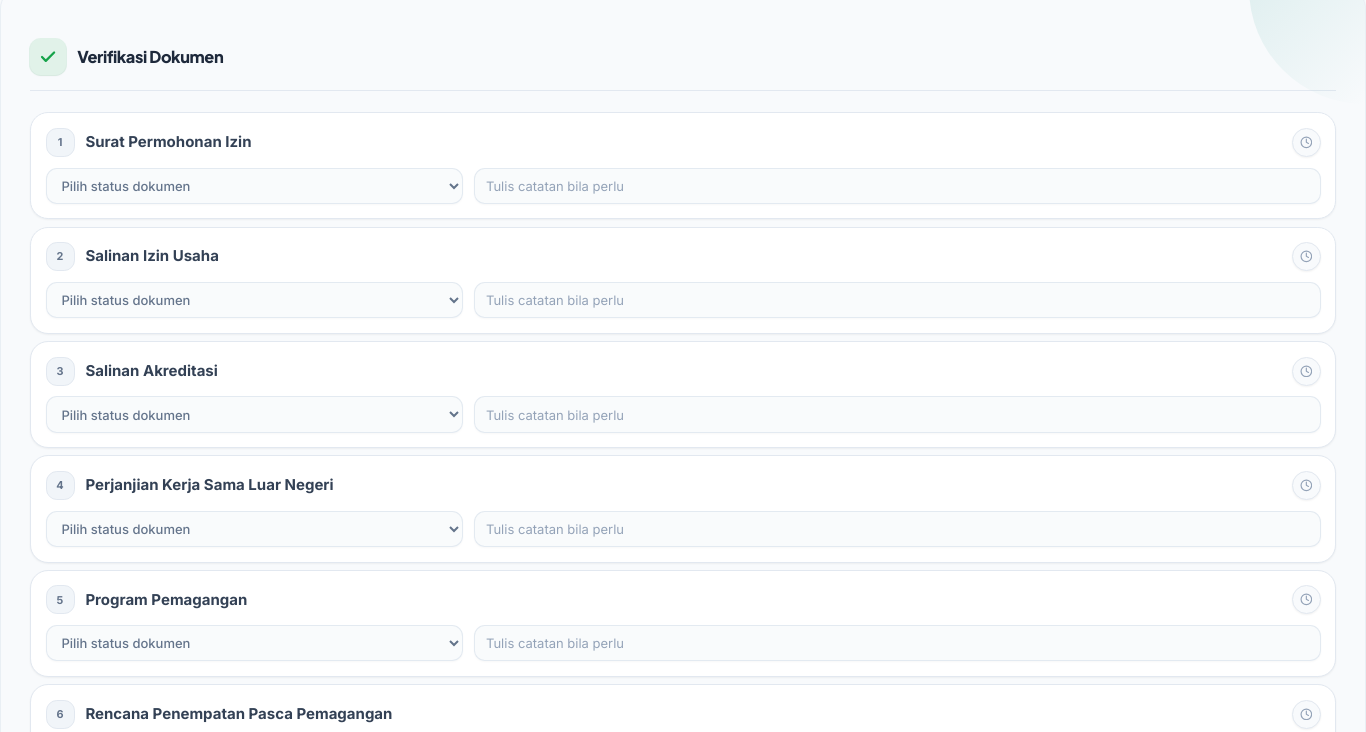
it: session flow › saves and restores document inspection draft before clearing it after final submit
This screenshot has width=1366, height=732.
Later steps or results of the test are not shown.
Step 1. Select "Memerlukan Perbaikan" in the dropdown below "Surat Permohonan Izin" → (254, 186), box x1=46 y1=168 x2=463 y2=204
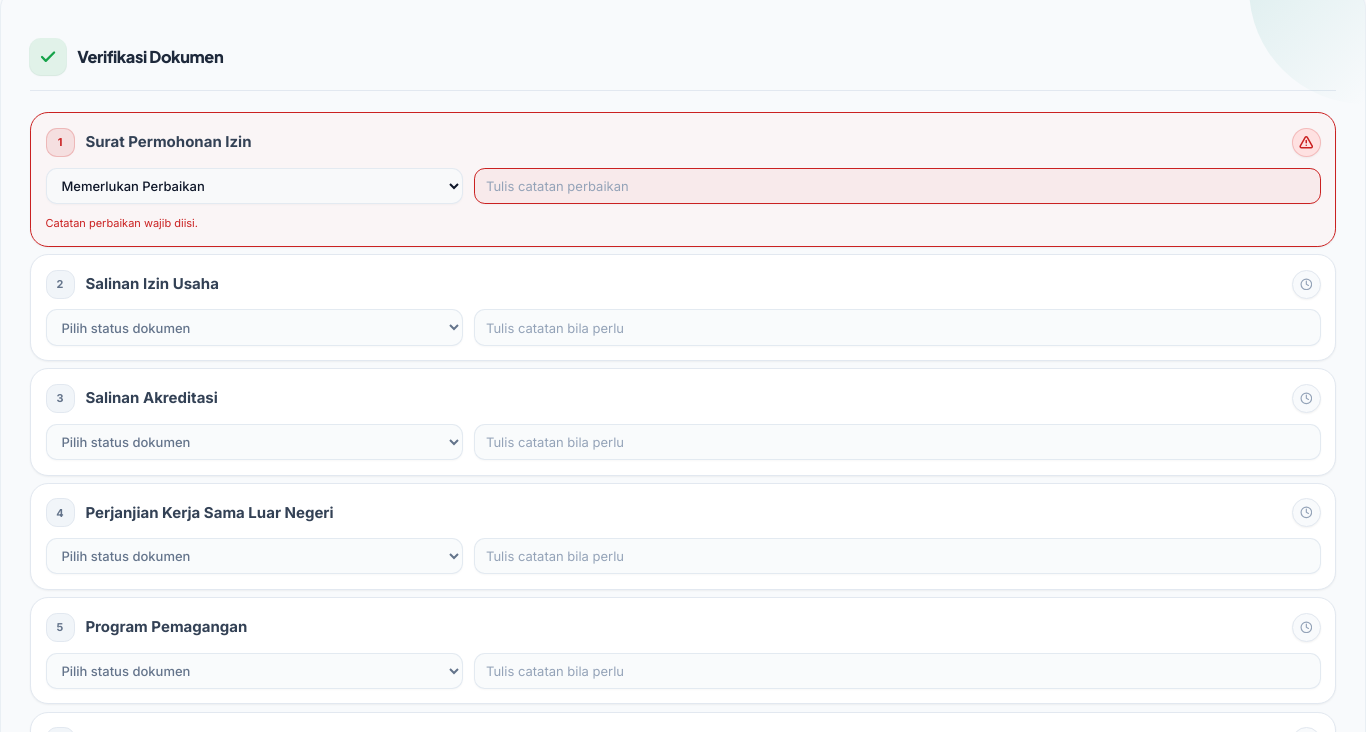
Step 2. Type "Catatan pemeriksaan cukup panjang agar admin dapat melanjutkan pekerjaan tanpa mengulang isian dari awal." into the field with placeholder "Tulis catatan perbaikan" → (897, 186), box x1=474 y1=168 x2=1320 y2=204
(page scrolled)
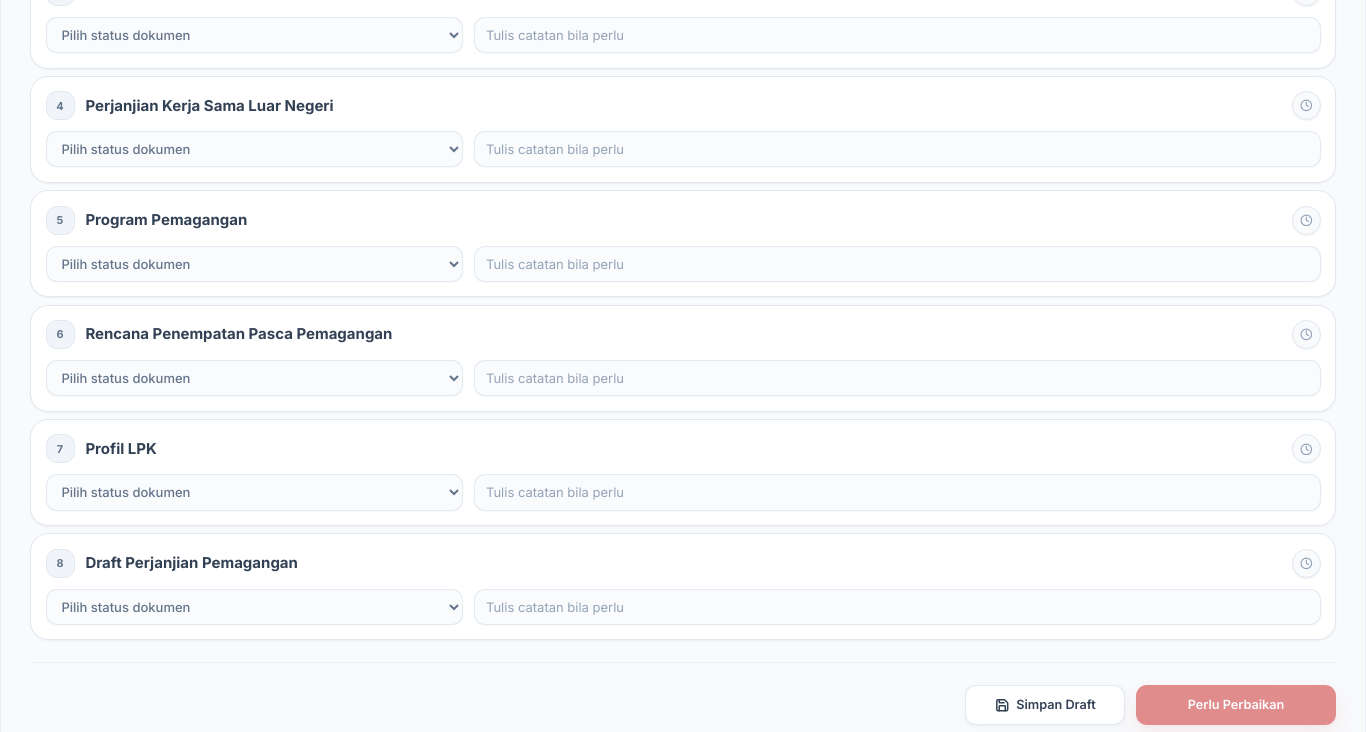
expect the button "Simpan Draft" is enabled: met
Step 3. Click the button "Simpan Draft" → (1045, 705), box x1=965 y1=685 x2=1125 y2=725
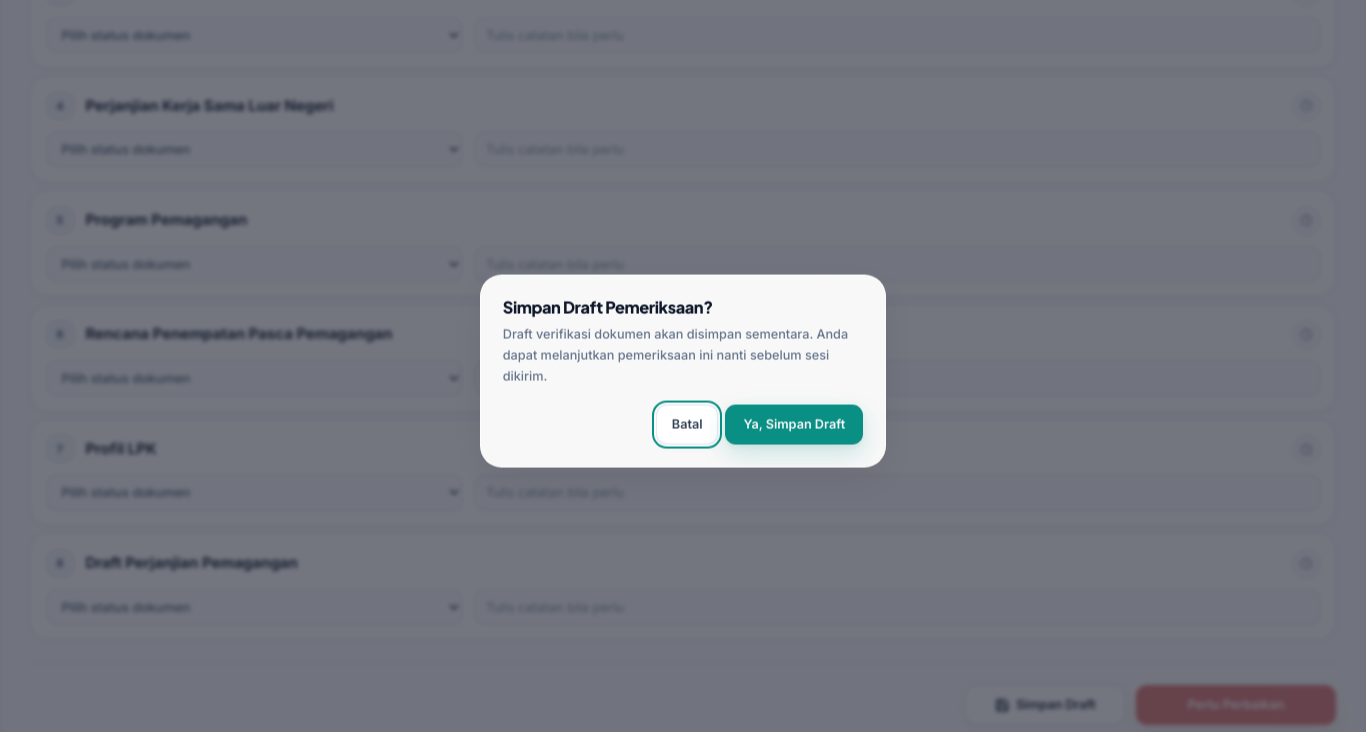
expect the heading "Simpan Draft Pemeriksaan?" is shown: met, box x1=503 y1=296 x2=713 y2=317
Step 4. Click the button "Ya, Simpan Draft" → (794, 425), box x1=725 y1=405 x2=863 y2=445
(page scrolled)
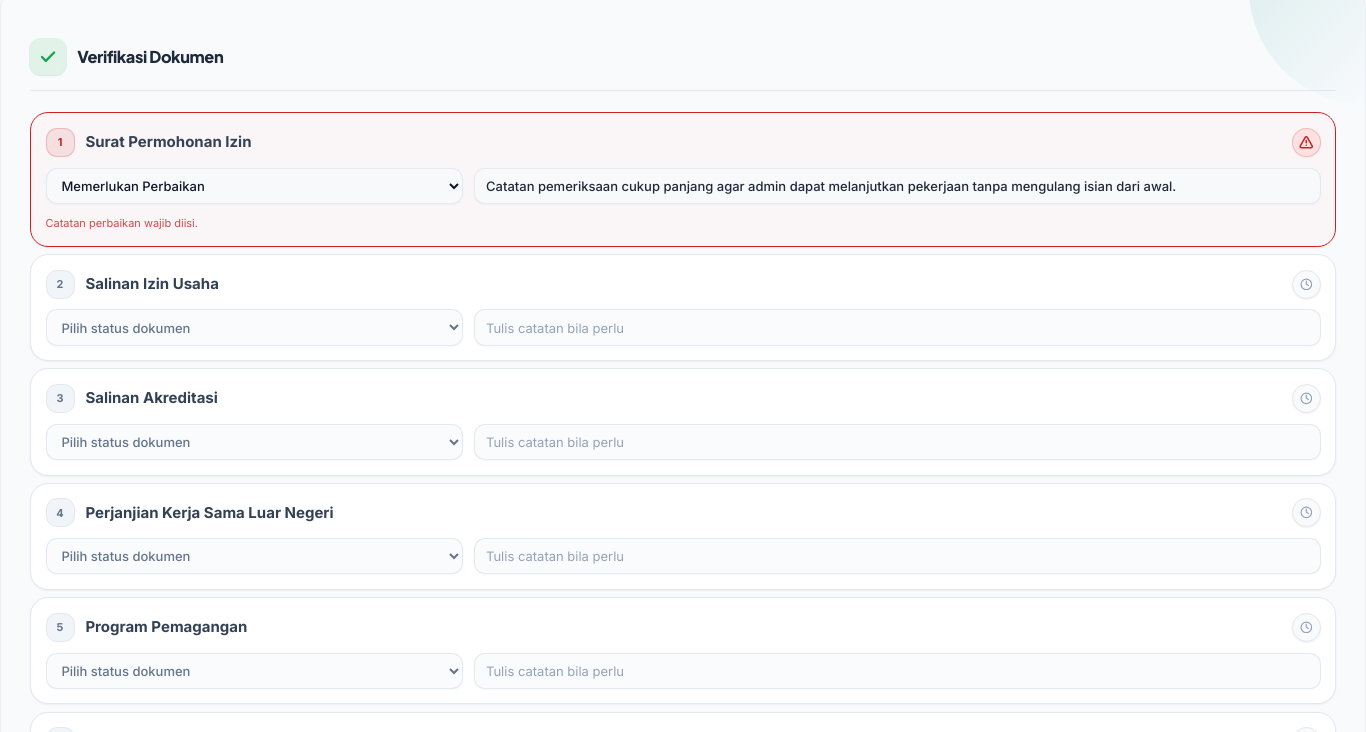
expect the heading "Simpan Draft Pemeriksaan?" is gone: met
